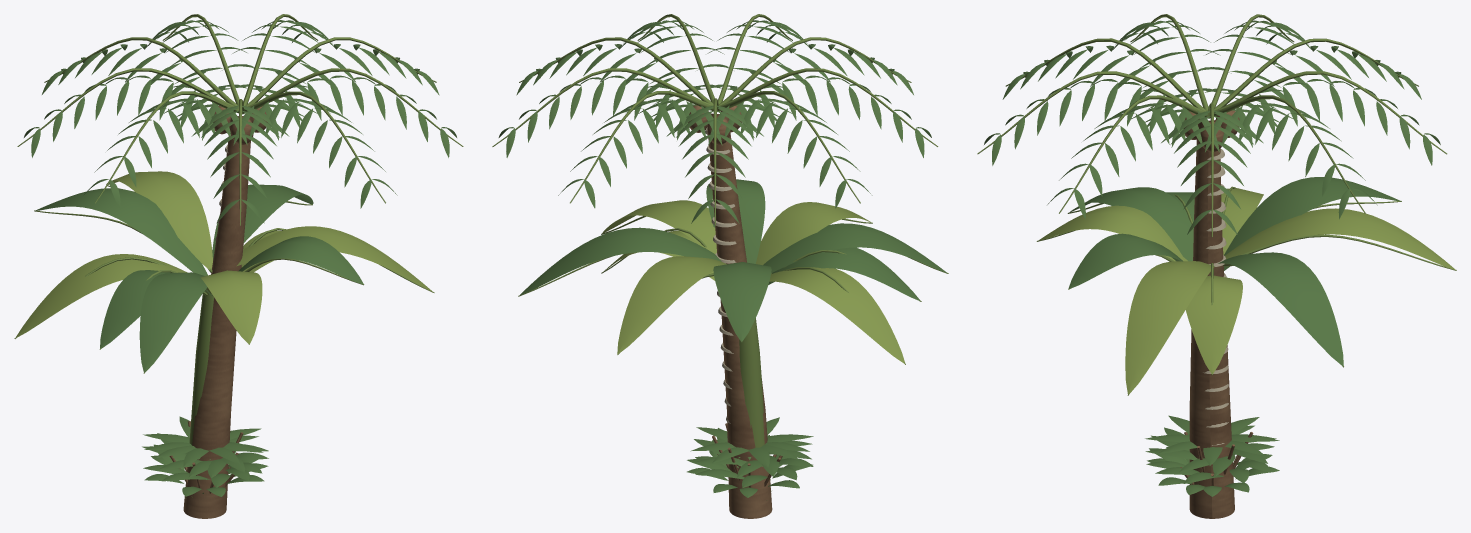
Rendered from vegetation.glb.
3 renders of one model, left to right at view 1: azimuth 30°, elevation 25°; view 2: azimuth 150°, elevation 25°; view 3: azimuth 270°, elevation 25°, orthographic. The views are drawn at different scales.
Visible parts, largest first — view 1: palm_tropical_leaf_upper, banana_tropical_leaf_upper, banana_young_tropical_leaf, palm_warm_weathered_hardwood, palm_green_fibrous_stem, shrub_tropical_leaf_upper, banana_green_fibrous_stem; view 2: palm_tropical_leaf_upper, banana_tropical_leaf_upper, banana_young_tropical_leaf, palm_warm_weathered_hardwood, palm_green_fibrous_stem, shrub_tropical_leaf_upper, banana_green_fibrous_stem, palm_warm_lime_concrete; view 3: banana_young_tropical_leaf, palm_tropical_leaf_upper, banana_tropical_leaf_upper, palm_warm_weathered_hardwood, palm_green_fibrous_stem, shrub_tropical_leaf_upper, banana_green_fibrous_stem, palm_warm_lime_concrete.
Part boxes in pixels (left/top/right/bottom): palm_tropical_leaf_upper: left=24, top=20, right=456, bottom=223; banana_tropical_leaf_upper: left=35, top=184, right=363, bottom=372; banana_young_tropical_leaf: left=16, top=171, right=432, bottom=344; palm_warm_weathered_hardwood: left=183, top=105, right=267, bottom=518; palm_green_fibrous_stem: left=17, top=14, right=463, bottom=225; shrub_tropical_leaf_upper: left=142, top=416, right=268, bottom=496; banana_green_fibrous_stem: left=14, top=185, right=434, bottom=445; palm_tropical_leaf_upper: left=498, top=20, right=931, bottom=223; banana_tropical_leaf_upper: left=519, top=179, right=946, bottom=341; banana_young_tropical_leaf: left=602, top=200, right=904, bottom=363; palm_warm_weathered_hardwood: left=688, top=105, right=772, bottom=518; palm_green_fibrous_stem: left=492, top=14, right=938, bottom=225; shrub_tropical_leaf_upper: left=687, top=417, right=813, bottom=497; banana_green_fibrous_stem: left=518, top=216, right=948, bottom=447; palm_warm_lime_concrete: left=705, top=127, right=736, bottom=438; banana_young_tropical_leaf: left=1038, top=188, right=1455, bottom=394; palm_tropical_leaf_upper: left=984, top=20, right=1440, bottom=234; banana_tropical_leaf_upper: left=1068, top=177, right=1400, bottom=366; palm_warm_weathered_hardwood: left=1183, top=110, right=1239, bottom=518; palm_green_fibrous_stem: left=977, top=14, right=1447, bottom=236; shrub_tropical_leaf_upper: left=1145, top=415, right=1279, bottom=496; banana_green_fibrous_stem: left=1036, top=186, right=1456, bottom=395; palm_warm_lime_concrete: left=1203, top=149, right=1228, bottom=445.
Bounding box in the file's own units: 4.34 × 4.52 × 4.22.
Materials: 5 (1 with a texture image).
